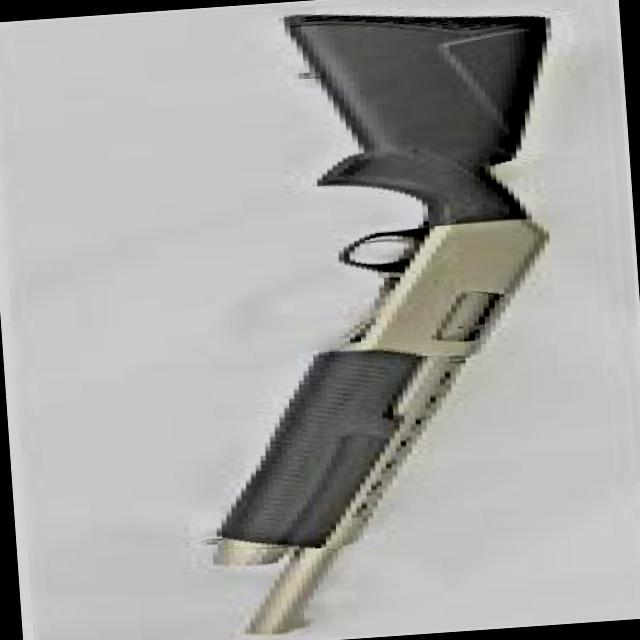long weapon: (31, 9, 621, 640)
